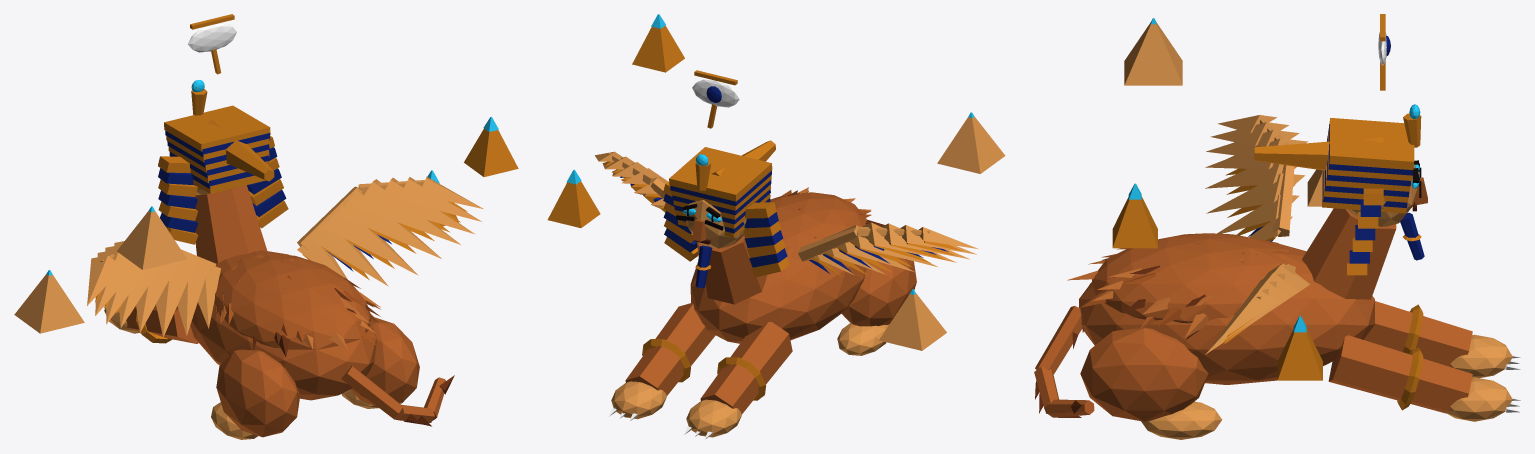
Rendered from sphinx.obj.
3 renders of one model, left to right at view 1: azimuth 30°, elevation 25°; view 2: azimuth 150°, elevation 25°; view 3: azimuth 270°, elevation 25°, orthographic. The views are drawn at different scales.
Parts seen in each view (by area): view 1: Body_1_m1, WingR_3_m11, Head_4_m22, WingL_2_m8, Head_4_m14, Head_4_m21, Float3_10_m33, Float1_8_m29, Float4_11_m35, Body_1_m5, Tail1_5_m23, Float1_12_m37 (+2 smaller); view 2: Body_1_m1, Head_4_m22, WingL_2_m8, Body_1_m5, Head_4_m21, Head_4_m14, Float3_10_m33, Float1_8_m29, WingR_3_m11, Float2_9_m31, Float4_11_m35, WingL_2_m9 (+4 smaller); view 3: Body_1_m1, Head_4_m22, WingL_2_m8, Body_1_m5, Head_4_m14, Head_4_m21, Float3_10_m33, WingR_3_m11, Float4_11_m35, Float2_9_m31, Tail1_5_m23, Body_1_m7 (+7 smaller).
Part boxes in pixels (x1=…): Body_1_m1: x1=126, y1=250, x2=419, y2=437; WingR_3_m11: x1=297, y1=177, x2=483, y2=286; Head_4_m22: x1=158, y1=89, x2=288, y2=244; WingL_2_m8: x1=87, y1=241, x2=220, y2=337; Head_4_m14: x1=195, y1=185, x2=267, y2=263; Head_4_m21: x1=158, y1=130, x2=286, y2=232; Float3_10_m33: x1=117, y1=210, x2=186, y2=269; Float1_8_m29: x1=14, y1=274, x2=84, y2=333; Float4_11_m35: x1=464, y1=128, x2=518, y2=176; Body_1_m5: x1=104, y1=308, x2=378, y2=439; Tail1_5_m23: x1=341, y1=366, x2=402, y2=418; Float1_12_m37: x1=188, y1=23, x2=236, y2=52; Body_1_m1: x1=625, y1=192, x2=916, y2=414; Head_4_m22: x1=663, y1=140, x2=789, y2=277; WingL_2_m8: x1=798, y1=222, x2=977, y2=275; Body_1_m5: x1=611, y1=323, x2=888, y2=437; Head_4_m21: x1=663, y1=170, x2=787, y2=287; Head_4_m14: x1=692, y1=219, x2=767, y2=304; Float3_10_m33: x1=937, y1=116, x2=1005, y2=173; Float1_8_m29: x1=879, y1=293, x2=946, y2=350; WingR_3_m11: x1=595, y1=151, x2=668, y2=208; Float2_9_m31: x1=547, y1=181, x2=600, y2=227; Float4_11_m35: x1=632, y1=25, x2=684, y2=72; WingL_2_m9: x1=811, y1=241, x2=963, y2=276; Body_1_m1: x1=1079, y1=233, x2=1472, y2=421; Head_4_m22: x1=1254, y1=113, x2=1421, y2=275; WingL_2_m8: x1=1205, y1=115, x2=1307, y2=240; Body_1_m5: x1=1141, y1=334, x2=1512, y2=439; Head_4_m14: x1=1302, y1=177, x2=1427, y2=299; Head_4_m21: x1=1323, y1=124, x2=1424, y2=263; Float3_10_m33: x1=1124, y1=22, x2=1182, y2=85; WingR_3_m11: x1=1205, y1=263, x2=1309, y2=354; Float4_11_m35: x1=1112, y1=196, x2=1157, y2=248; Float2_9_m31: x1=1277, y1=329, x2=1322, y2=380; Tail1_5_m23: x1=1035, y1=306, x2=1082, y2=374; Body_1_m7: x1=1397, y1=304, x2=1423, y2=410.
Size of the model in its own units: 5.77 by 4.53 by 5.31.
